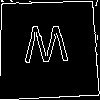W: (23, 25, 70, 72)
